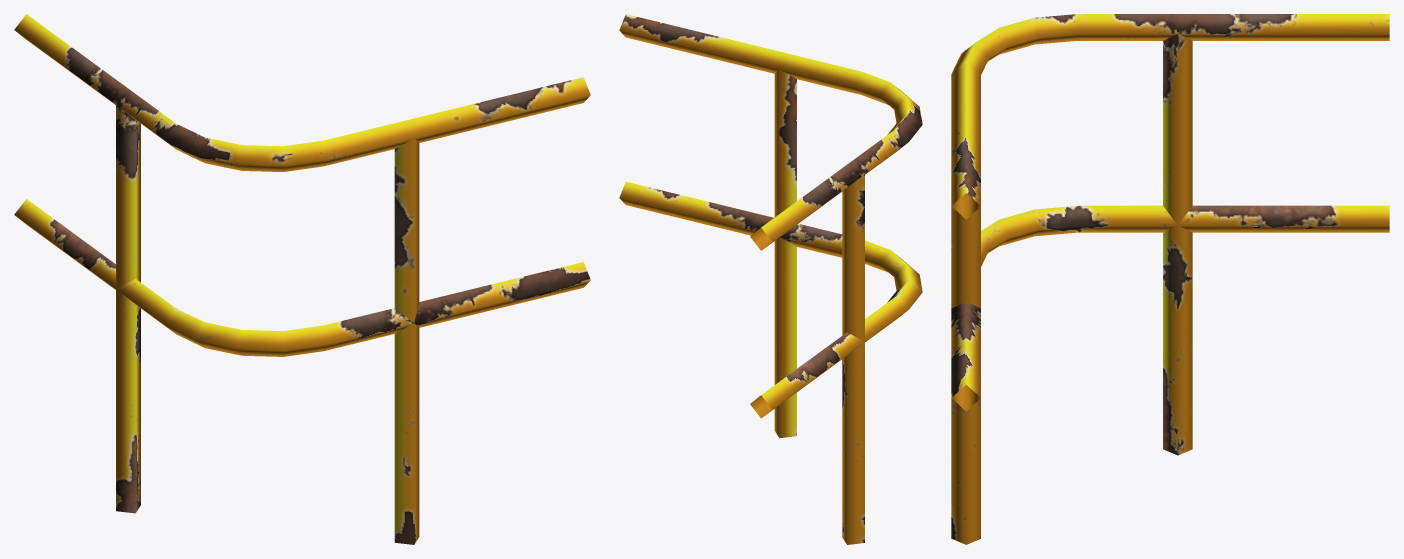
Rendered from safetyRail_corner01.fbx.
3 renders of one model, left to right at view 1: azimuth 30°, elevation 25°; view 2: azimuth 150°, elevation 25°; view 3: azimuth 270°, elevation 25°, orthographic. The views are drawn at different scales.
Visible parts, largest first — view 1: safetyRail_corner01; view 2: safetyRail_corner01; view 3: safetyRail_corner01.
Part boxes in pixels (x1,y1,x2,y2): safetyRail_corner01: (14, 14, 590, 544); safetyRail_corner01: (619, 14, 922, 544); safetyRail_corner01: (951, 14, 1389, 544).
Size of the model in its own units: 104 by 113 by 104.
